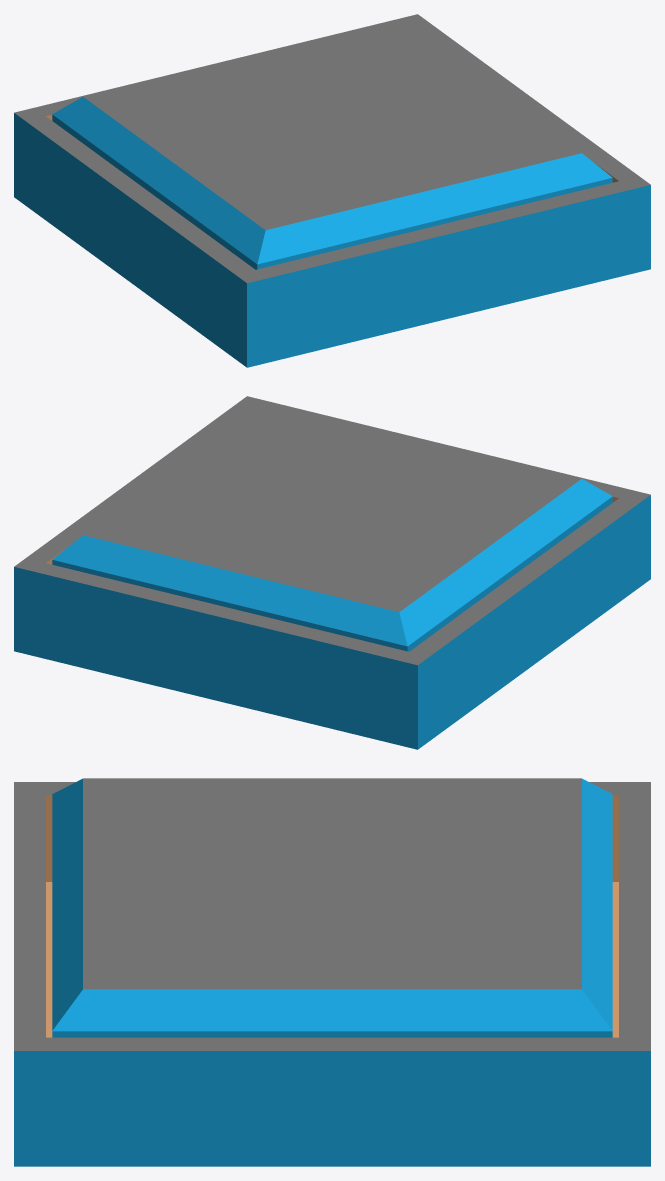
Rendered from pressure_plate1T.fbx.
3 views of the same model, one above another, from view 1: azimuth 30°, elevation 25°; view 2: azimuth 150°, elevation 25°; view 3: azimuth 270°, elevation 25° (orthographic). The views are drawn at different scales.
Visible parts, largest first — view 1: MovingPart, Bottom; view 2: MovingPart, Bottom; view 3: MovingPart, Bottom.
Boxes of the visible parts, bbox=[...] form: MovingPart: bbox=[52, 19, 612, 269]; Bottom: bbox=[14, 14, 650, 367]; MovingPart: bbox=[52, 401, 612, 651]; Bottom: bbox=[14, 396, 650, 749]; MovingPart: bbox=[52, 778, 612, 1037]; Bottom: bbox=[14, 782, 650, 1166].
Size of the model in its own units: 200 by 51.28 by 200.
